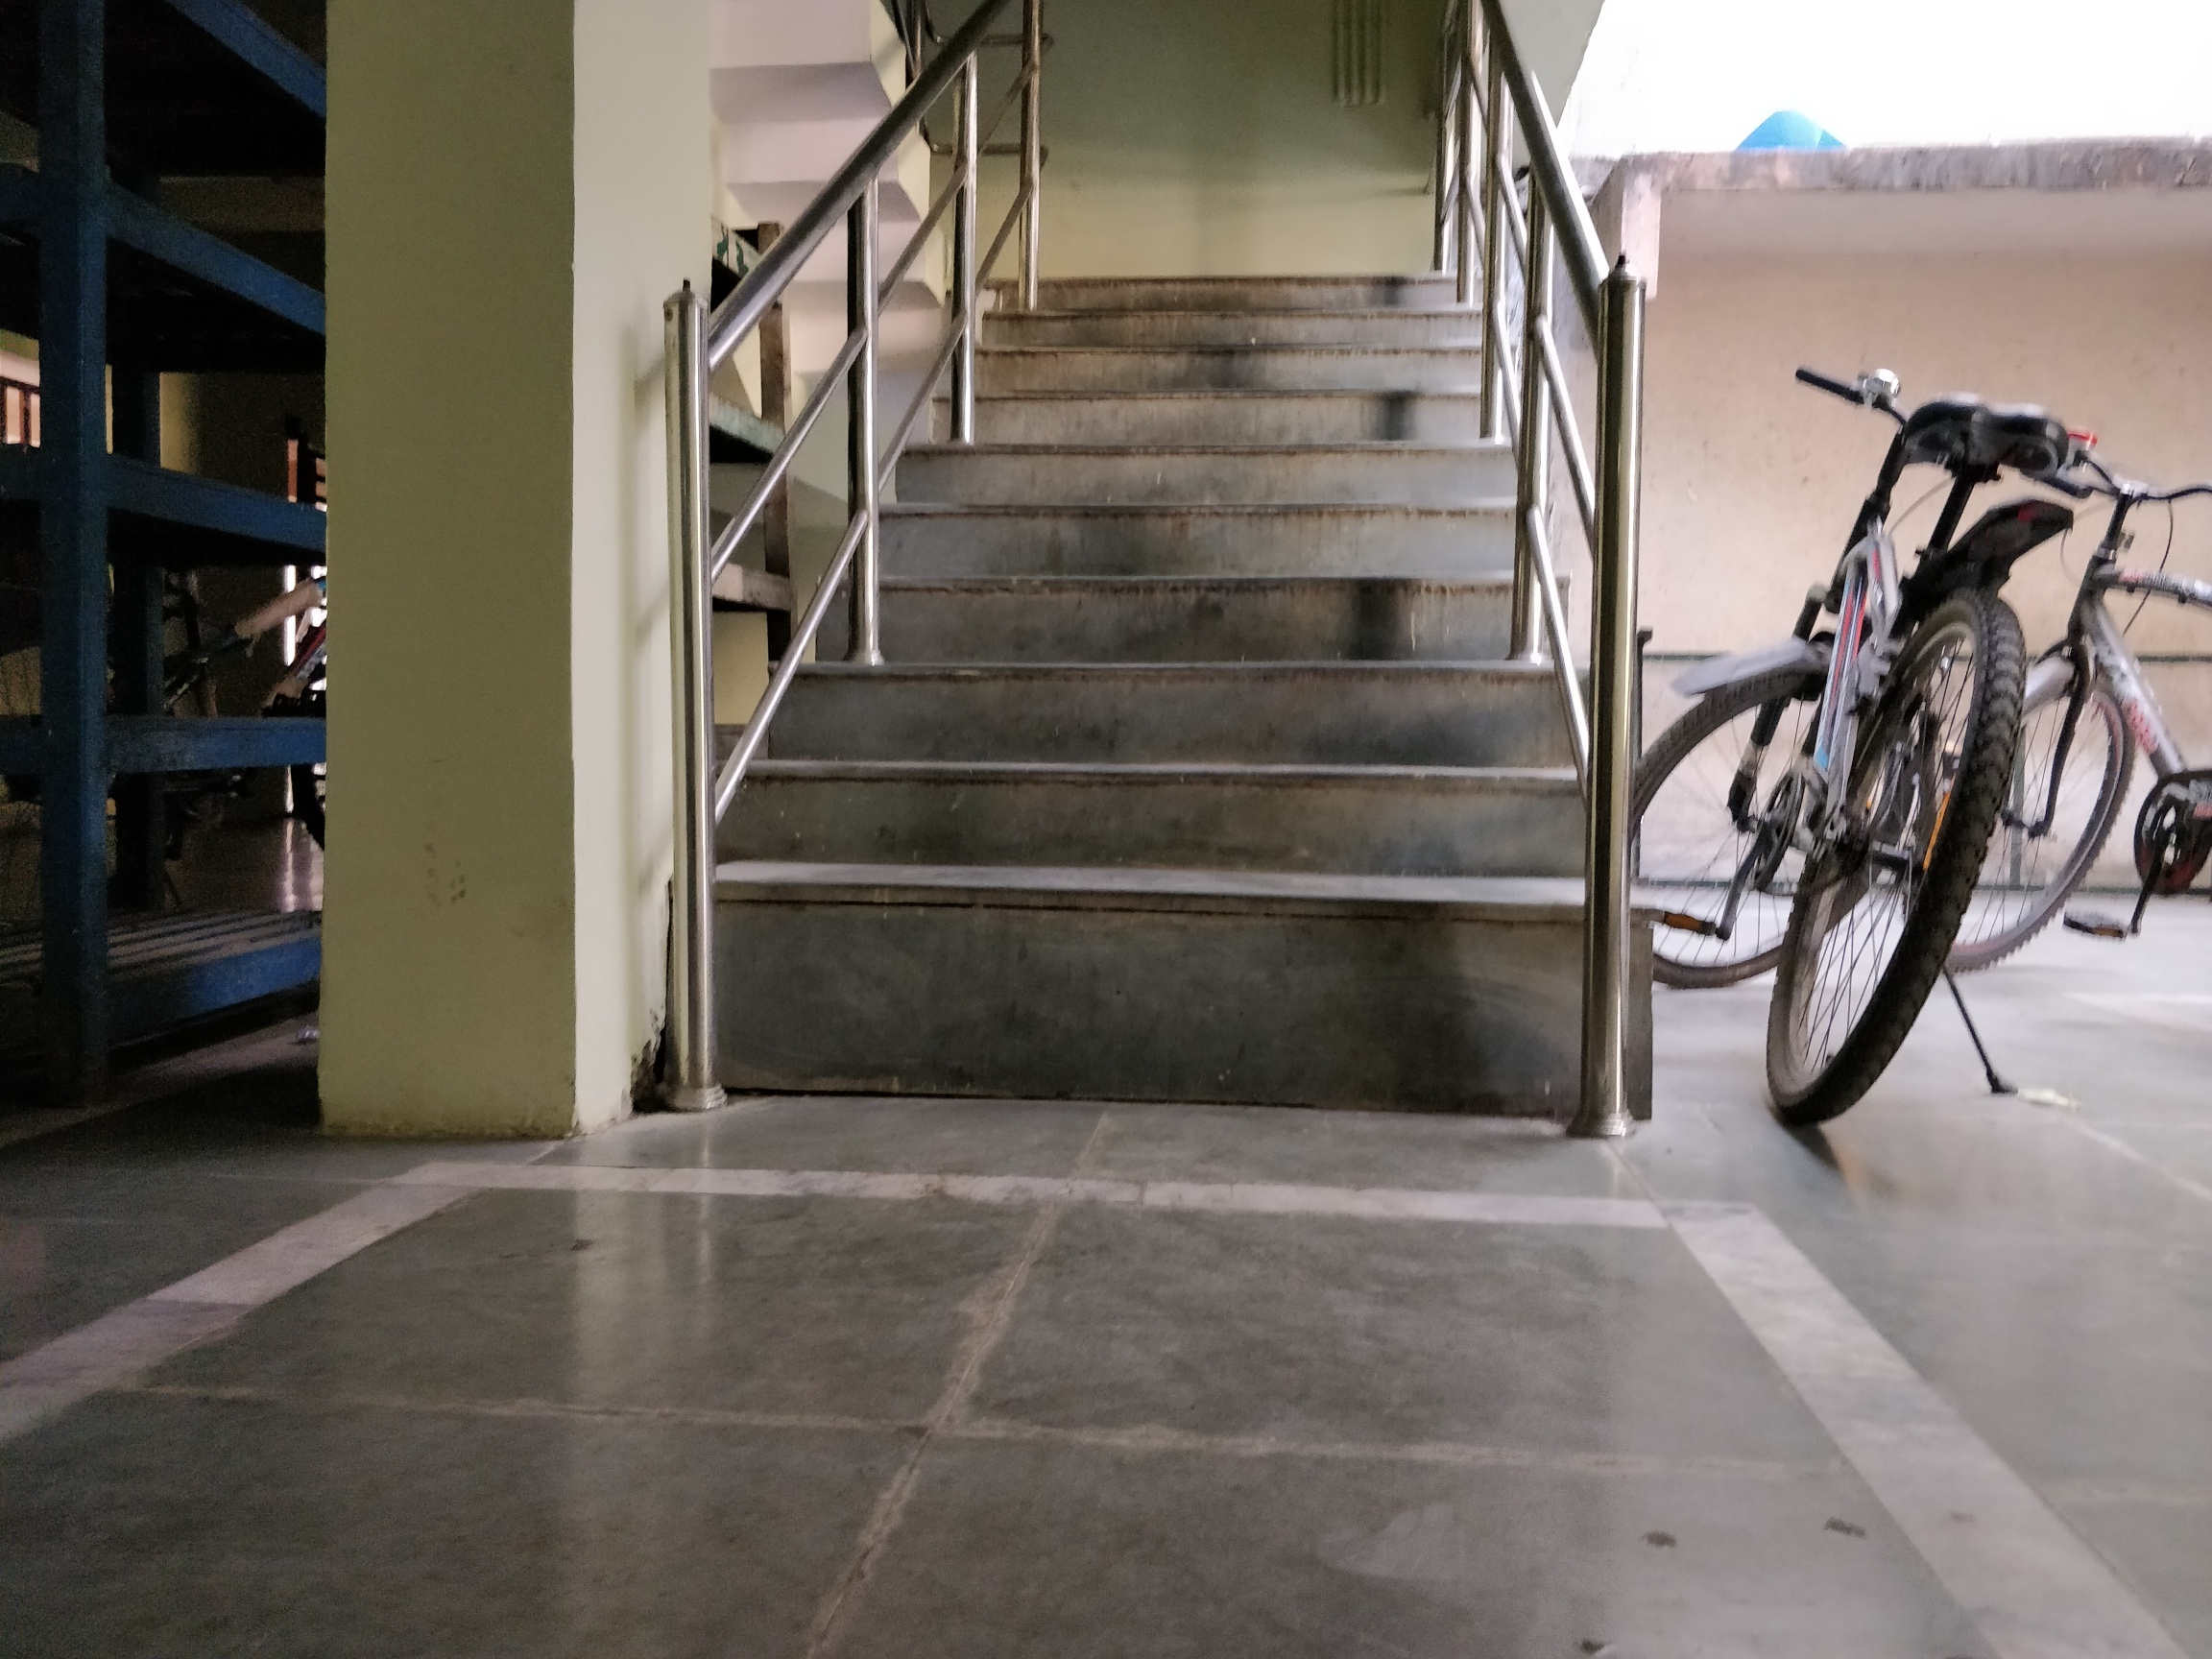stairs_up: (686, 253, 1592, 1121)
